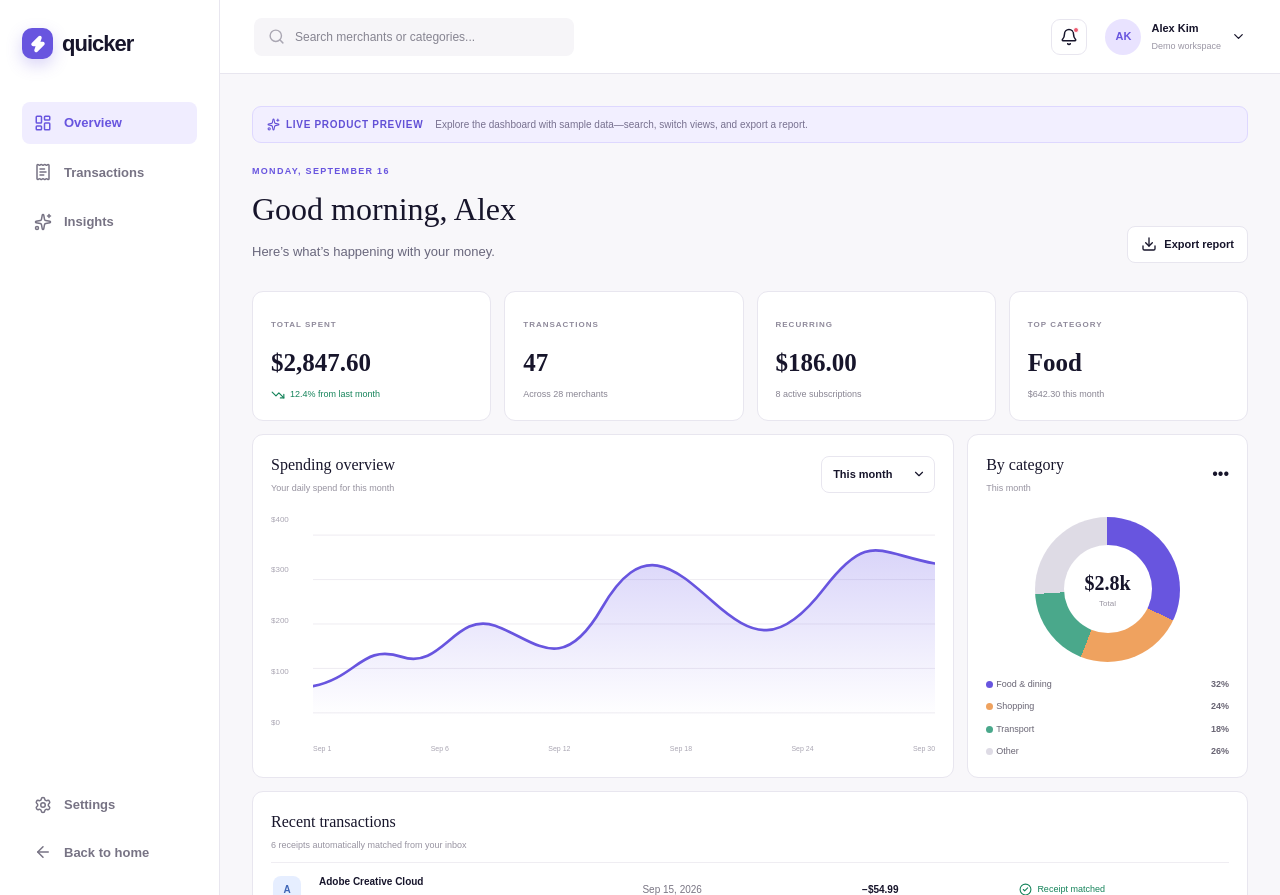
Scenario: Demo dashboard › supports searching sample transactions and changing views
This screenshot has width=1280, height=895.
In the field named "Search transactions": {"x": 428, "y": 36} [295, 28, 560, 46], type "groceries"
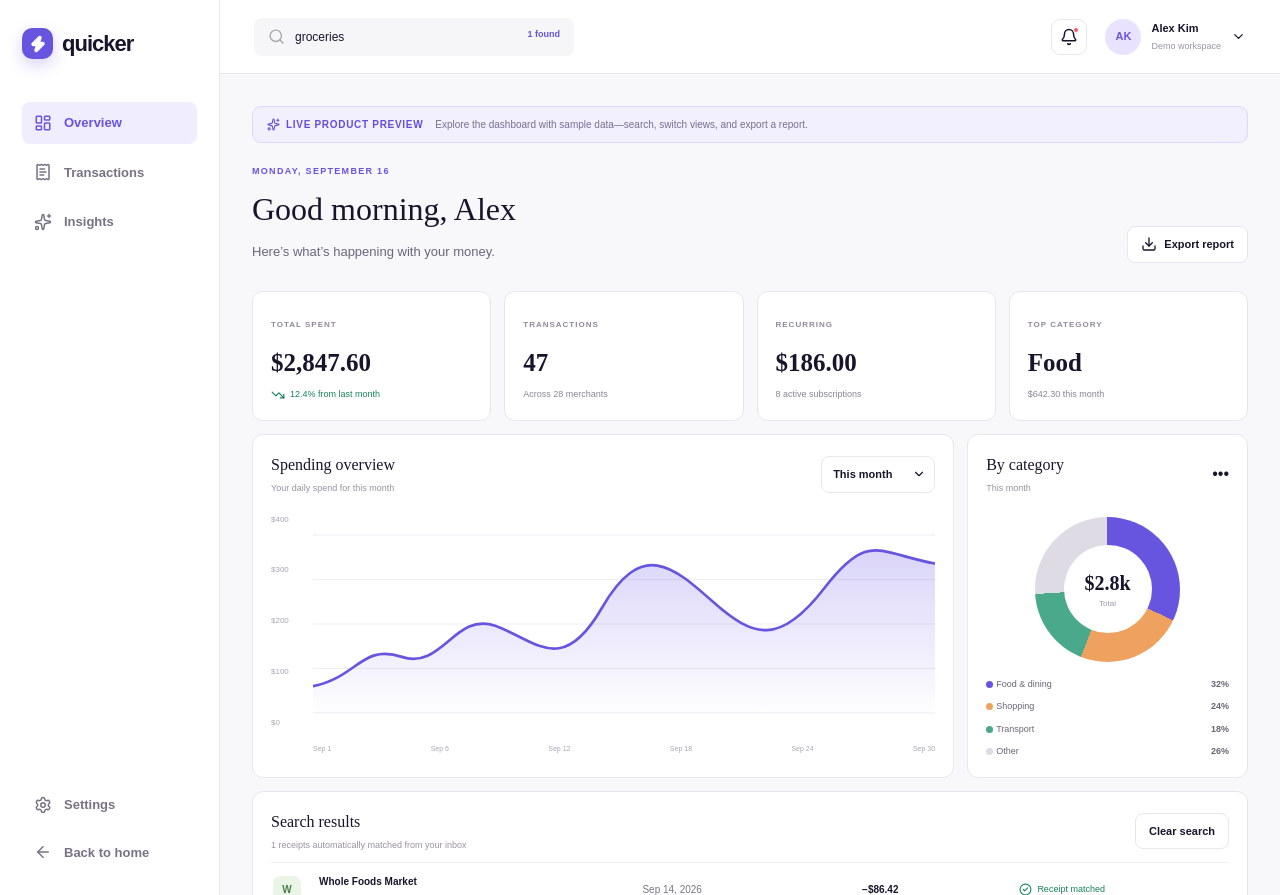
Expected: the text "Whole Foods Market" is shown, [319, 876, 417, 887]
Expected: the text "Adobe Creative Cloud" is gone
Click the button "Insights": {"x": 110, "y": 222} [22, 201, 197, 242]
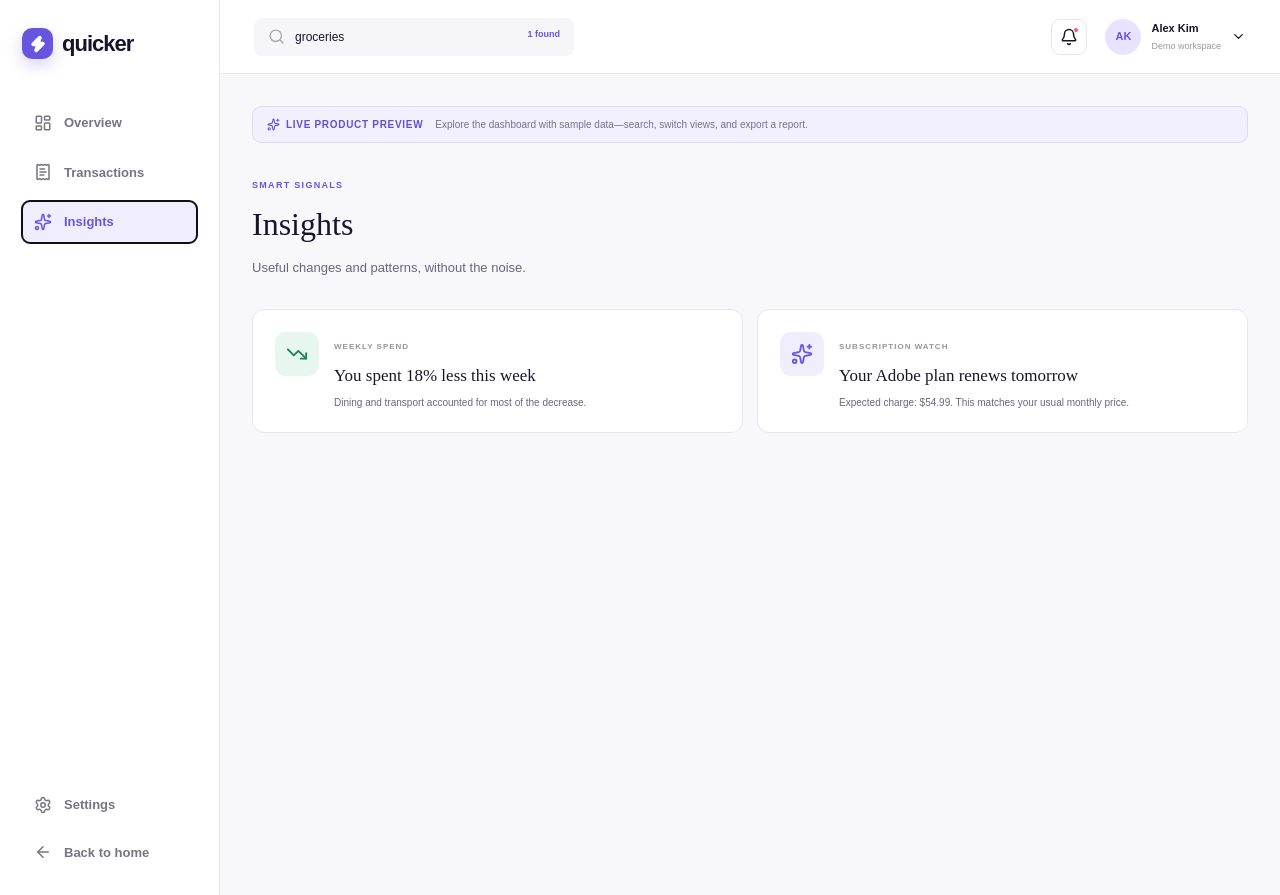
Expected: the heading "Insights" is shown, [252, 206, 353, 242]
Expected: the heading "You spent 18% less this week" is shown, [334, 366, 536, 384]
